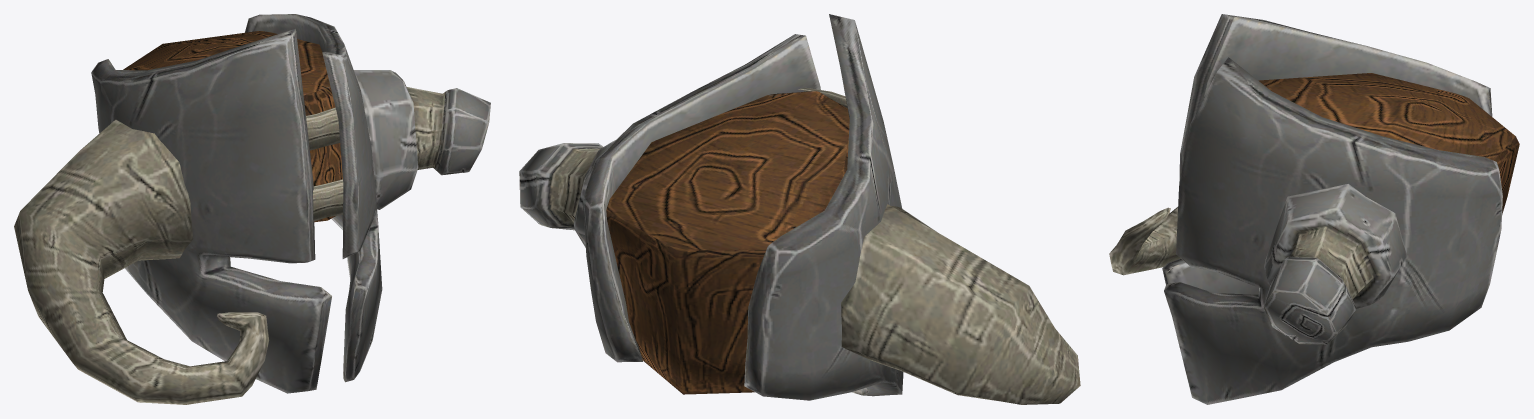
File: Knight.fbx
3 renders of one model, left to right at view 1: azimuth 30°, elevation 25°; view 2: azimuth 150°, elevation 25°; view 3: azimuth 270°, elevation 25°, orthographic. The views are drawn at different scales.
Visible parts, largest first — view 1: node_id57; view 2: node_id57; view 3: node_id57.
Boxes of the visible parts, x1=… form: node_id57: x1=14, y1=14, x2=490, y2=404; node_id57: x1=519, y1=14, x2=1080, y2=404; node_id57: x1=1109, y1=14, x2=1519, y2=404.
Size of the model in its own units: 0.512 by 0.368 by 0.3749.
Materials: 1 (1 with a texture image).
